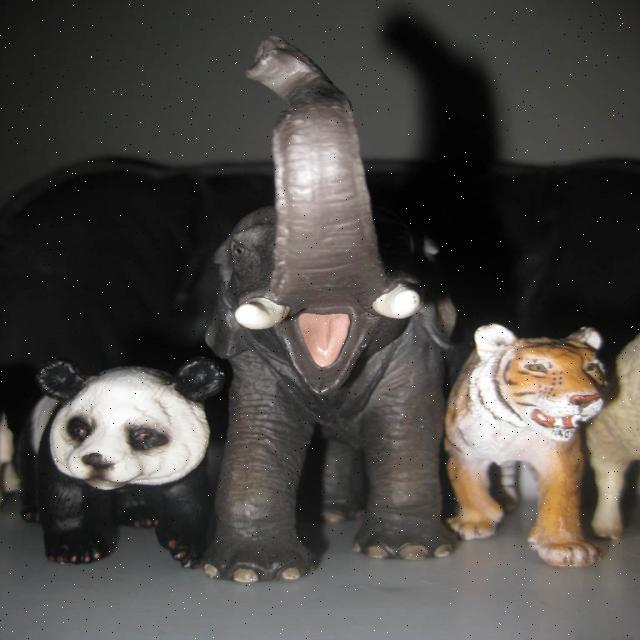panda: (12, 359, 219, 571)
